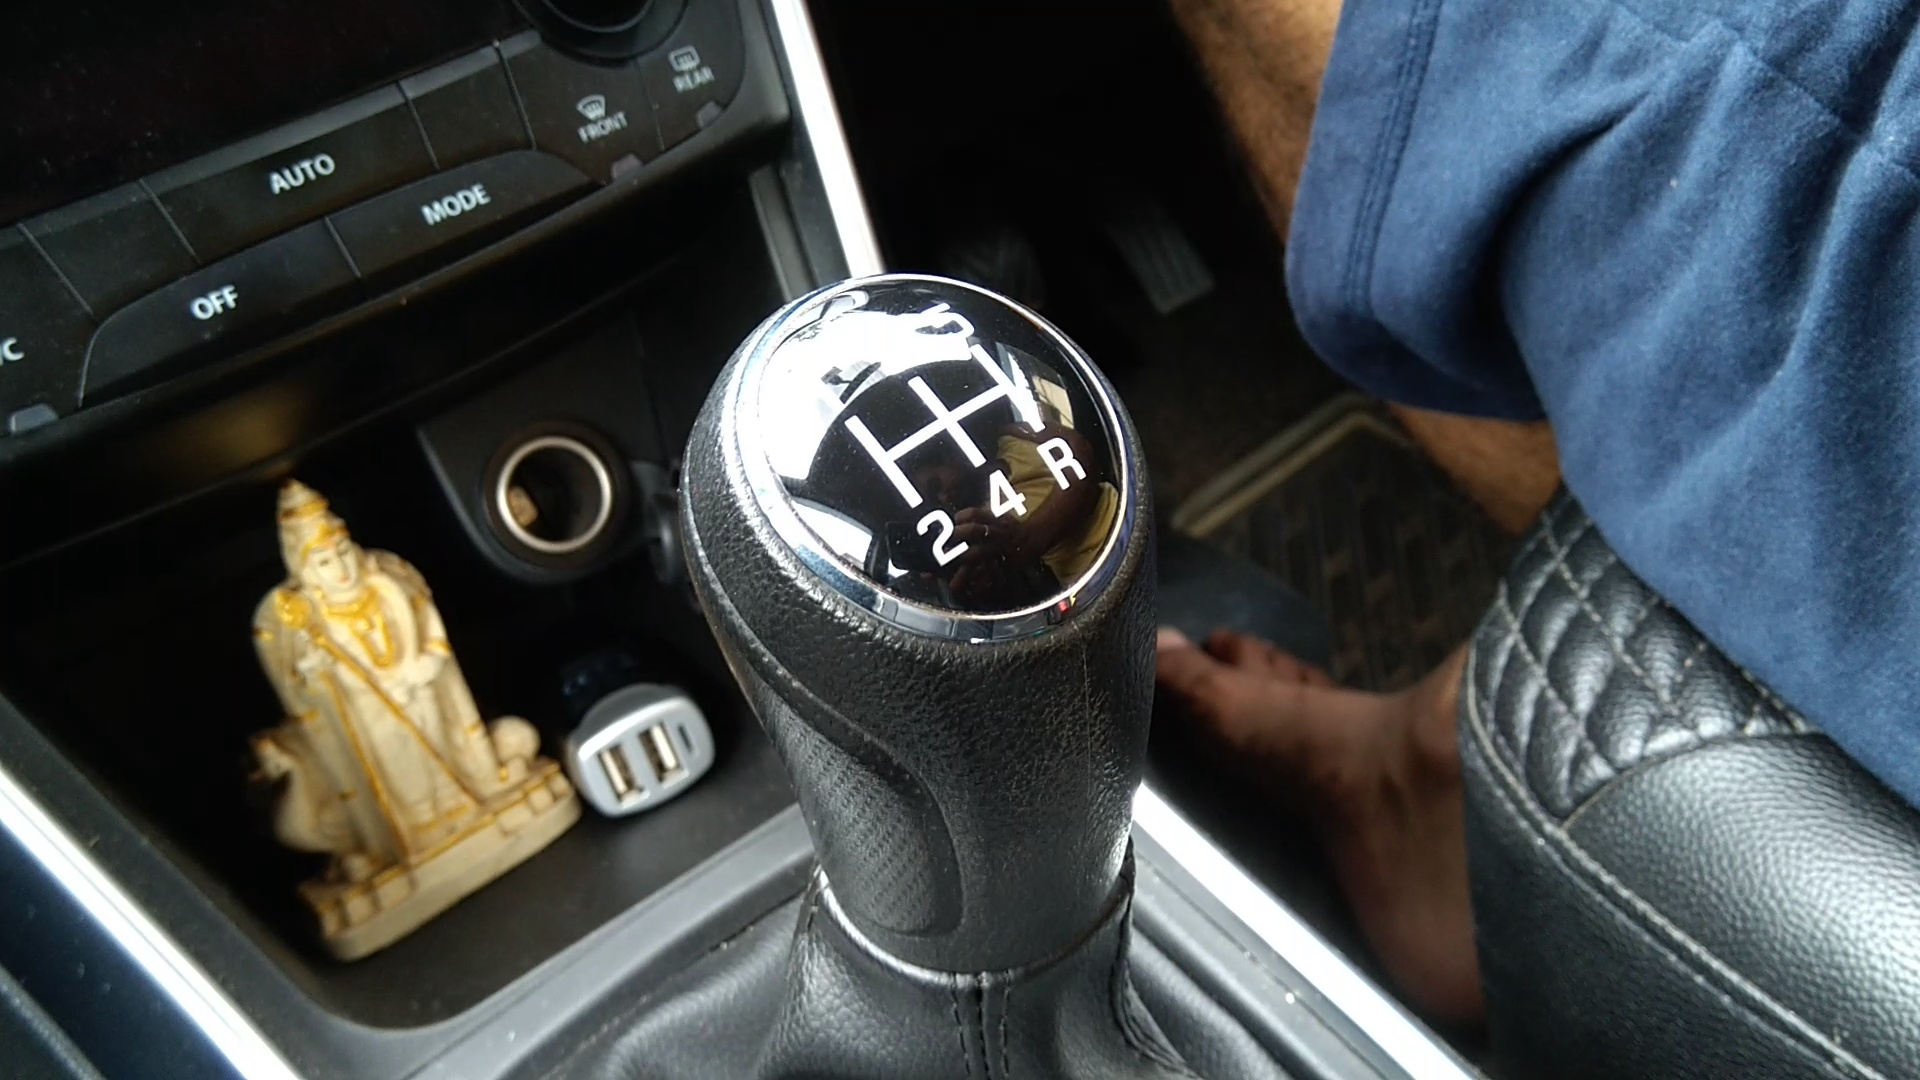manual_gear: (665, 260, 1164, 1047)
